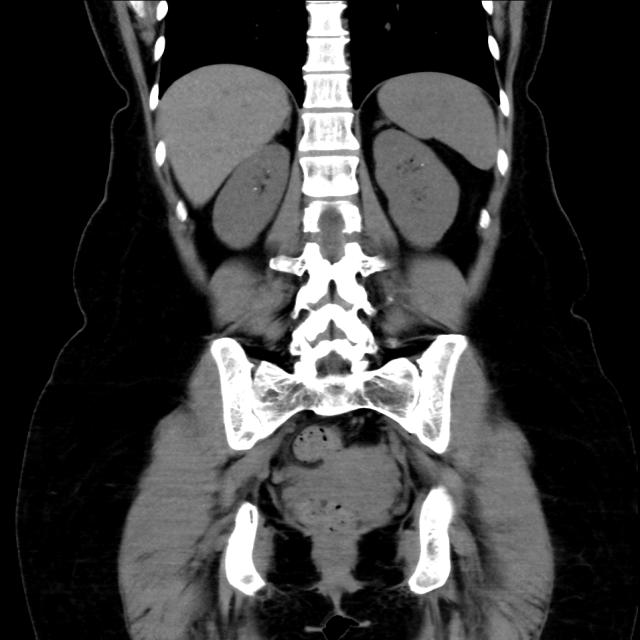kidneystone: (421, 162, 425, 166), (252, 186, 255, 189)
